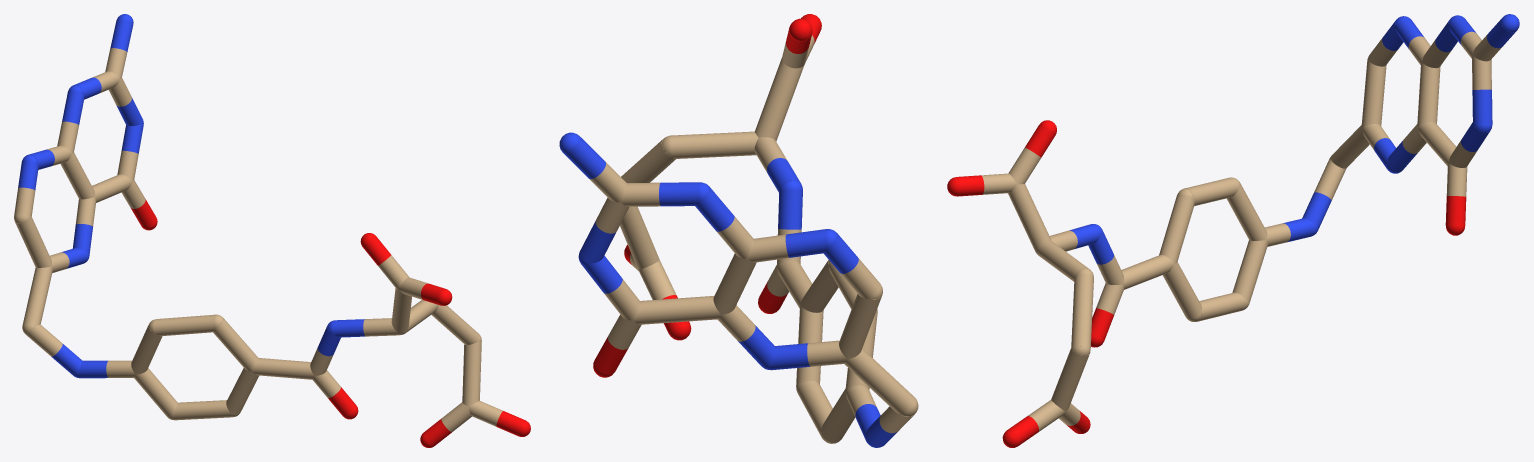
File: FolateRing.dae
3 views of the same model, side by side, from view 1: azimuth 30°, elevation 25°; view 2: azimuth 150°, elevation 25°; view 3: azimuth 270°, elevation 25° (orthographic). The views are drawn at different scales.
Parts seen in each view (by area): view 1: subnode_76, subnode_66, subnode_51, subnode_62, subnode_63, subnode_61, subnode_50, subnode_64, subnode_75, subnode_60, subnode_47, subnode_65 (+14 smaller); view 2: subnode_73, subnode_44, subnode_74, subnode_51, subnode_50, subnode_76, subnode_47, subnode_60, subnode_75, subnode_63, subnode_61, subnode_64 (+35 smaller); view 3: subnode_75, subnode_61, subnode_74, subnode_50, subnode_64, subnode_47, subnode_76, subnode_65, subnode_60, subnode_62, subnode_73, subnode_66 (+14 smaller).
Boxes of the visible parts, x1,y1,x2,y2 form: subnode_76: [462, 340, 481, 406]; subnode_66: [154, 314, 215, 336]; subnode_51: [22, 266, 52, 326]; subnode_62: [252, 358, 314, 379]; subnode_63: [172, 400, 233, 420]; subnode_61: [213, 318, 258, 371]; subnode_50: [15, 217, 51, 267]; subnode_64: [134, 368, 177, 417]; subnode_75: [431, 305, 479, 344]; subnode_60: [226, 368, 258, 414]; subnode_47: [60, 152, 95, 199]; subnode_65: [131, 325, 162, 374]; subnode_73: [671, 131, 758, 158]; subnode_44: [634, 296, 721, 324]; subnode_74: [754, 57, 804, 141]; subnode_51: [844, 348, 915, 414]; subnode_50: [839, 294, 882, 359]; subnode_76: [620, 206, 659, 269]; subnode_47: [713, 253, 756, 314]; subnode_60: [796, 305, 823, 386]; subnode_75: [621, 138, 675, 182]; subnode_63: [796, 381, 832, 438]; subnode_61: [800, 260, 838, 312]; subnode_64: [821, 389, 855, 442]; subnode_75: [1071, 274, 1093, 349]; subnode_61: [1159, 195, 1194, 263]; subnode_74: [1008, 184, 1051, 251]; subnode_50: [1361, 60, 1386, 128]; subnode_64: [1232, 240, 1267, 303]; subnode_47: [1417, 62, 1440, 126]; subnode_76: [1051, 348, 1089, 411]; subnode_65: [1226, 183, 1267, 240]; subnode_60: [1162, 262, 1202, 318]; subnode_62: [1121, 255, 1173, 289]; subnode_73: [1036, 241, 1088, 281]; subnode_66: [1184, 177, 1238, 205].
Size of the model in its own units: 9.49 by 8.04 by 11.68.
